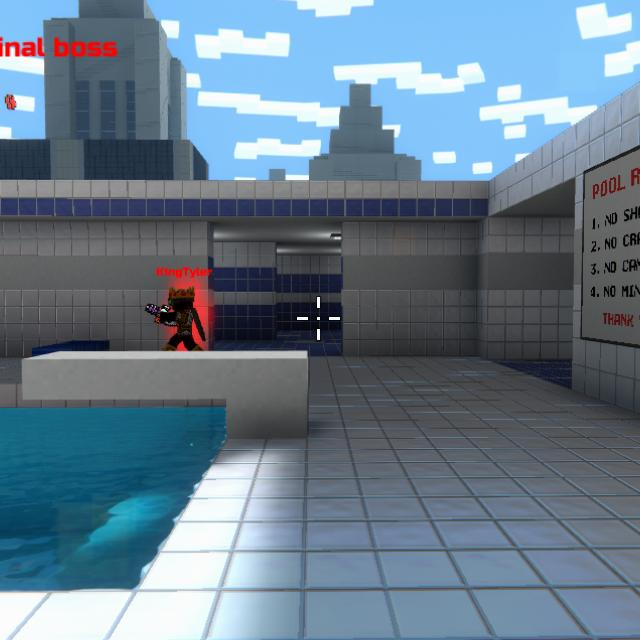Enemy: (157, 287, 199, 351)
